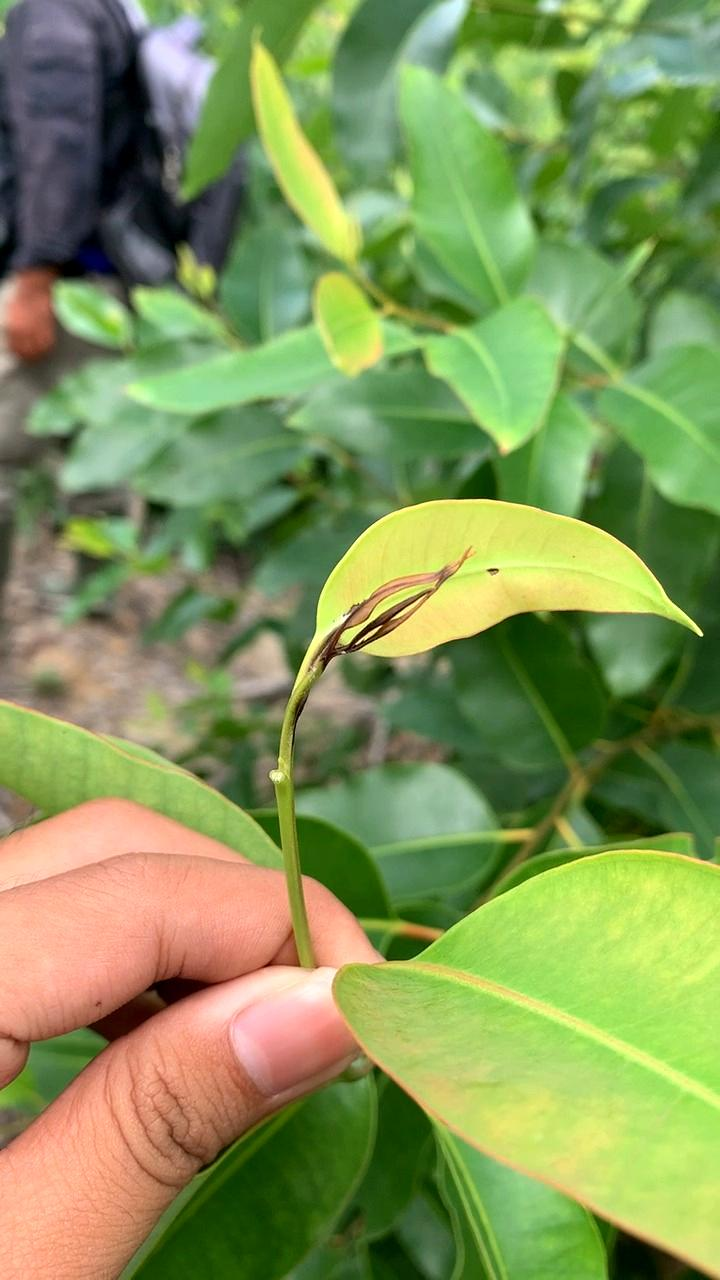Helopeltis-Withered Sprout: (310, 548, 481, 677)
